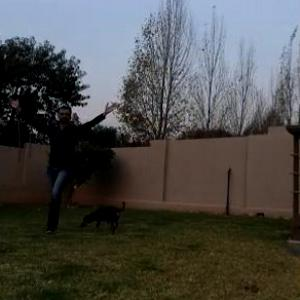takeoff: (6, 91, 121, 226)
